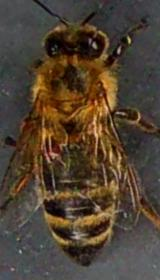varroa_mite: (35, 136, 68, 160)
